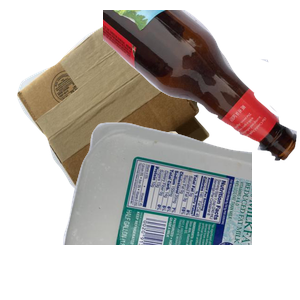cardboard: (14, 10, 222, 190)
glass: (103, 10, 300, 163)
plastic: (60, 120, 300, 300)
trash: (90, 129, 295, 300)
